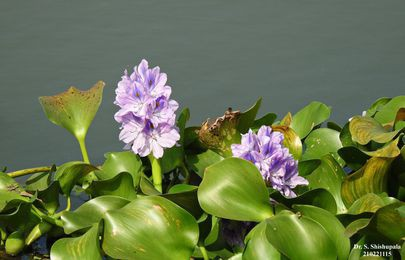water_hyacinth: (0, 58, 405, 260)
